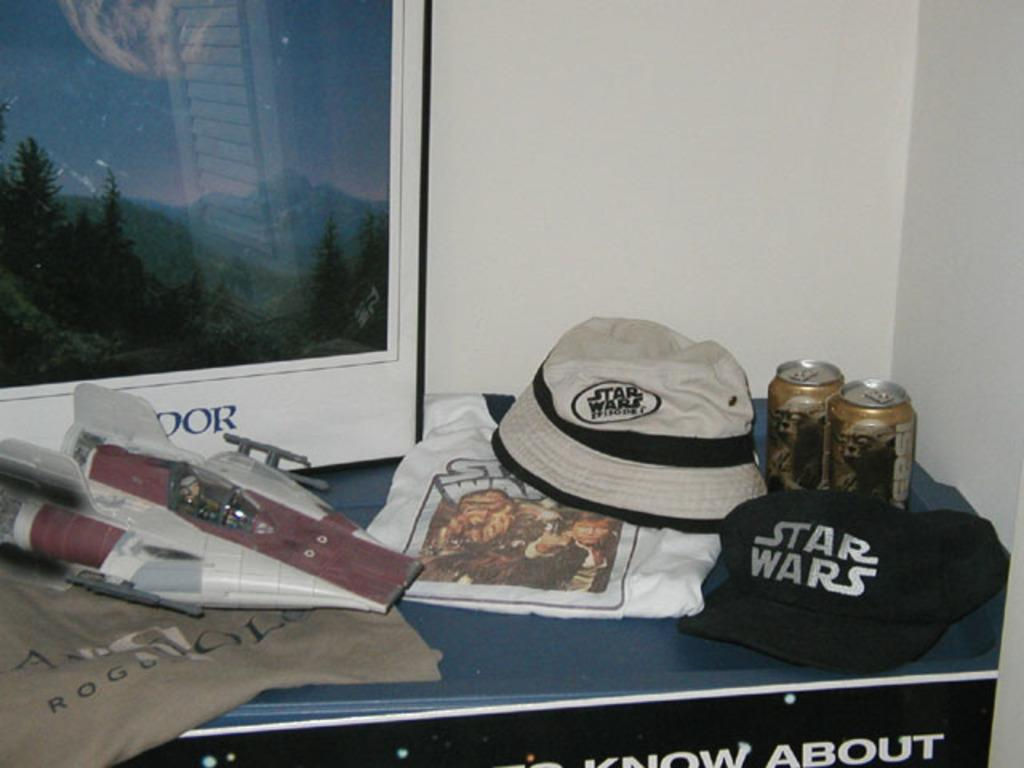Hat: (492, 306, 778, 528), (680, 488, 1012, 672)
